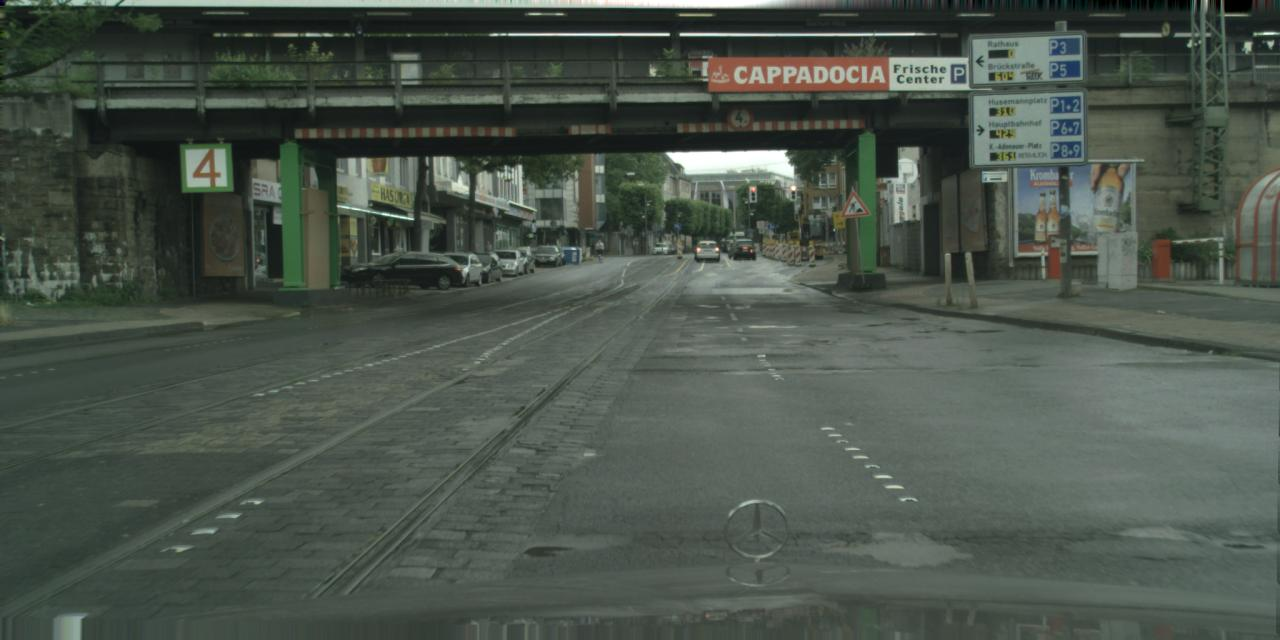ped: (483, 240, 494, 266), (595, 239, 603, 259)
